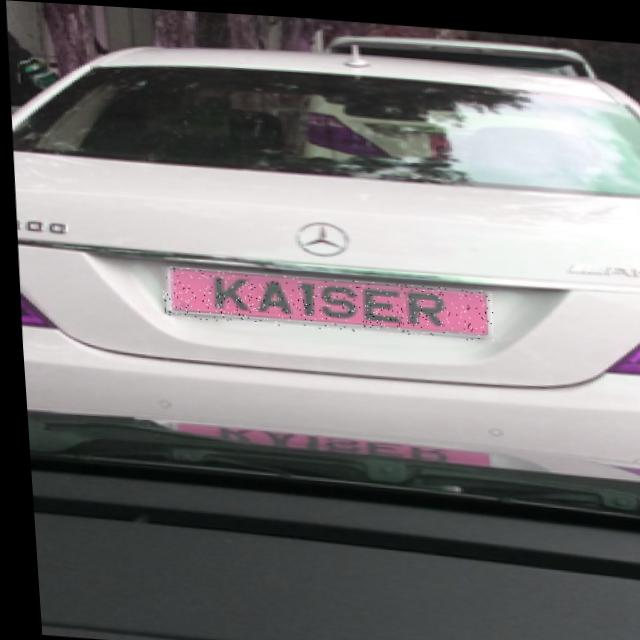license_plate: (156, 264, 490, 336)
